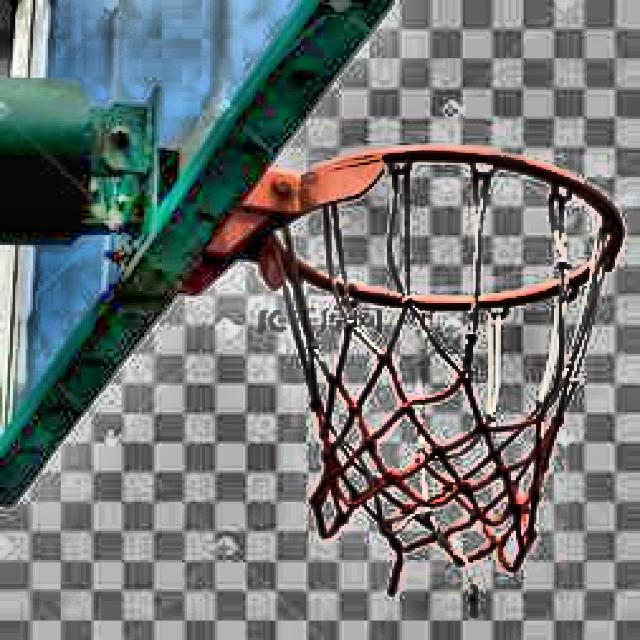rim: (274, 147, 624, 586)
